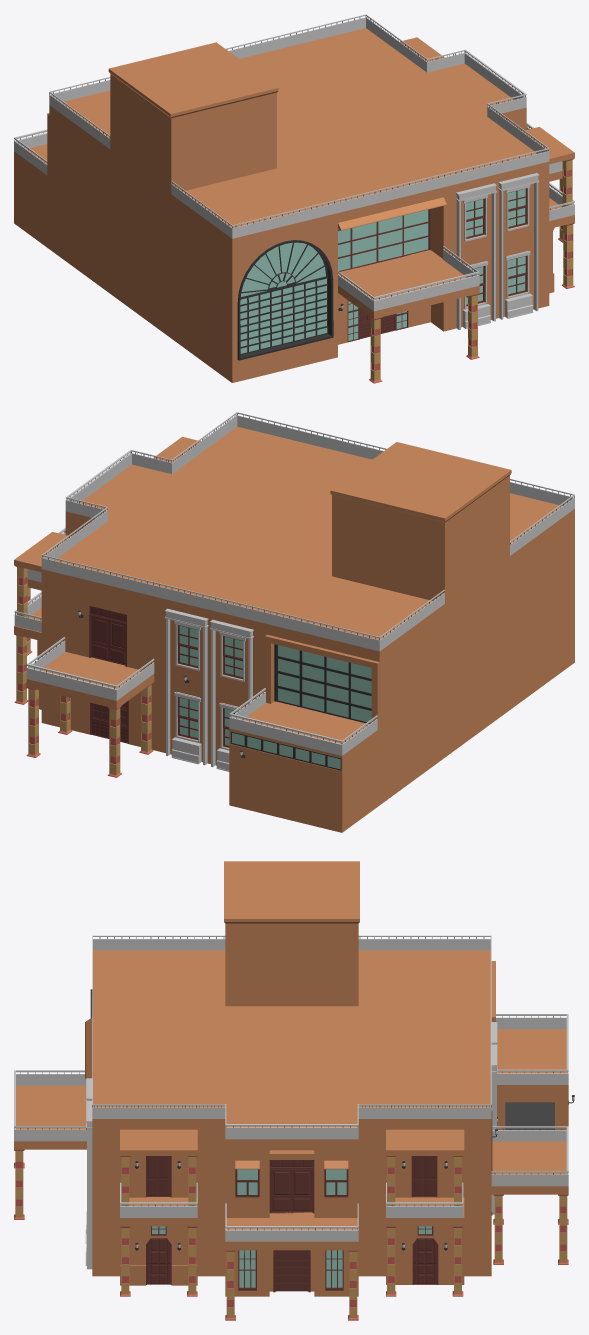
File: Residence.dae
3 renders of one model, top to bottom at view 1: azimuth 30°, elevation 25°; view 2: azimuth 150°, elevation 25°; view 3: azimuth 270°, elevation 25°, orthographic. The views are drawn at different scales.
Parts seen in each view (by area): view 1: FirstFloor, GroundFloor, RoofBalconie, BigWindow, SlidingDoor, BigWindowWall, WindowSection, Balcony_004, WindowDetail, SideDoor, Windows, WindowExt (+7 smaller); view 2: FirstFloor, GroundFloor, RoofBalconie, LargeWindow, DoorSection_001, WindowSection_001, Balcony, Windows_002, Balcony_005, WindowSection_002, SideDoor_002, Windows_001 (+10 smaller); view 3: FirstFloor, GroundFloor, RoofBalconie, Window_004, Window_003, Door_002, Door_001, FrontBalconyDoor, Balcony_005, Balcony, Balcony_004, Balcony_001 (+19 smaller).
Boxes of the visible parts, x1,y1,x2,y2 form: FirstFloor: (47,28,574,310); GroundFloor: (14,144,574,382); RoofBalconie: (49,14,549,238); BigWindow: (237,230,333,360); SlidingDoor: (338,209,430,271); BigWindowWall: (232,228,337,382); WindowSection: (443,177,549,256); Balcony_004: (338,246,479,311); WindowDetail: (462,251,533,328); SideDoor: (338,293,430,344); Windows: (463,184,530,241); WindowExt: (498,173,539,319); FirstFloor: (14,426,574,729); GroundFloor: (14,579,574,832); RoofBalconie: (41,412,574,651); LargeWindow: (274,644,371,723); DoorSection_001: (41,585,154,670); WindowSection_001: (154,613,264,697); Balcony: (229,688,377,755); Windows_002: (171,692,241,771); Balcony_005: (26,637,154,700); WindowSection_002: (154,681,246,765); SideDoor_002: (89,597,126,666); Windows_001: (174,621,245,681); FirstFloor: (85,861,495,1197); GroundFloor: (14,1029,568,1296); RoofBalconie: (92,935,491,1139); Window_004: (225,1156,269,1217); Window_003: (314,1156,358,1217); Door_002: (386,1156,464,1197); Door_001: (120,1156,197,1197); FrontBalconyDoor: (269,1159,314,1213); Balcony_005: (491,1126,568,1186); Balcony: (496,1014,568,1084); Balcony_004: (14,1070,86,1141); Balcony_001: (225,1203,358,1241).
Size of the model in its own units: 12.57 by 13.95 by 6.74.
